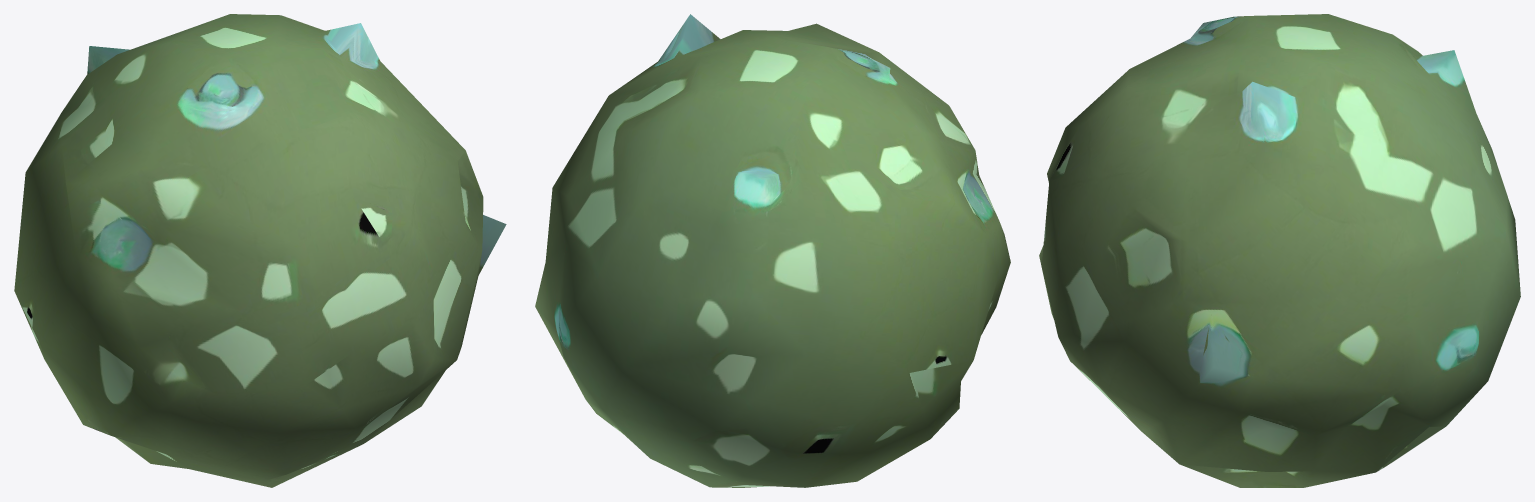
Rendered from Emerald_Glow_Sphere_0727043605_texture.fbx.
3 views of the same model, side by side, from view 1: azimuth 30°, elevation 25°; view 2: azimuth 150°, elevation 25°; view 3: azimuth 270°, elevation 25° (orthographic). The views are drawn at different scales.
Parts seen in each view (by area): view 1: Mesh1; view 2: Mesh1; view 3: Mesh1.
Part boxes in pixels (x1,y1,x2,y2): Mesh1: (14, 14, 506, 487); Mesh1: (535, 14, 1010, 487); Mesh1: (1039, 14, 1520, 487).
Size of the model in its own units: 204 by 192 by 195.
Materials: 1 (1 with a texture image).
